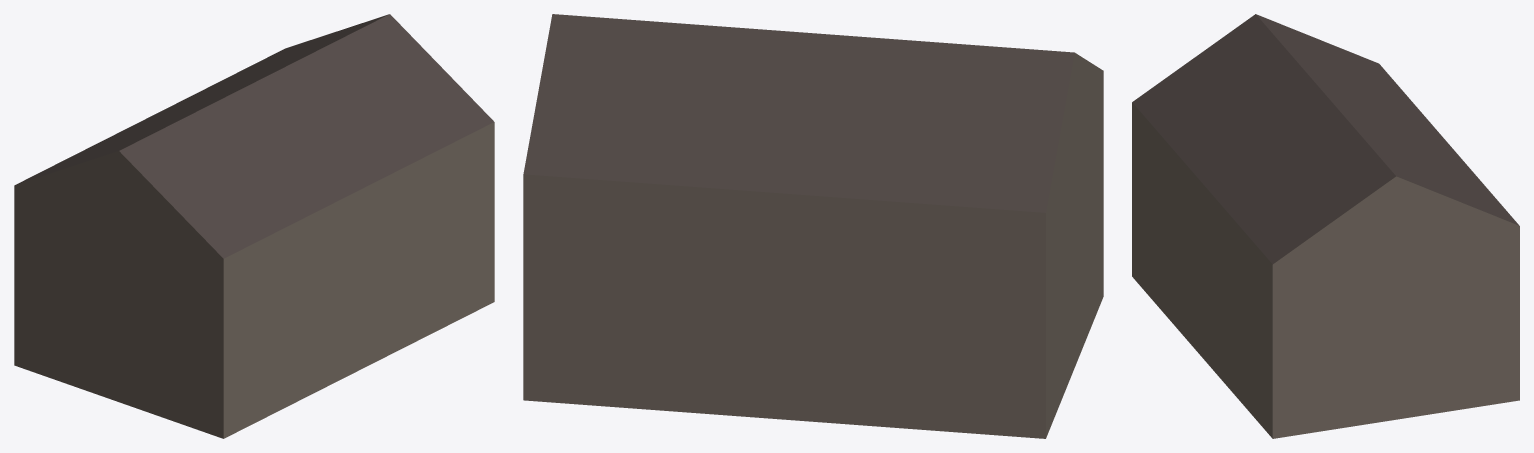
3 views of the same model, side by side, from view 1: azimuth 30°, elevation 25°; view 2: azimuth 150°, elevation 25°; view 3: azimuth 270°, elevation 25° (orthographic). The views are drawn at different scales.
Parts seen in each view (by area): view 1: HP-w1203858316; view 2: HP-w1203858316; view 3: HP-w1203858316.
Boxes of the visible parts, x1,y1,x2,y2 form: HP-w1203858316: (14,14,494,438); HP-w1203858316: (523,14,1103,438); HP-w1203858316: (1132,14,1519,438).
Size of the model in its own units: 22.23 by 12.56 by 18.13.
